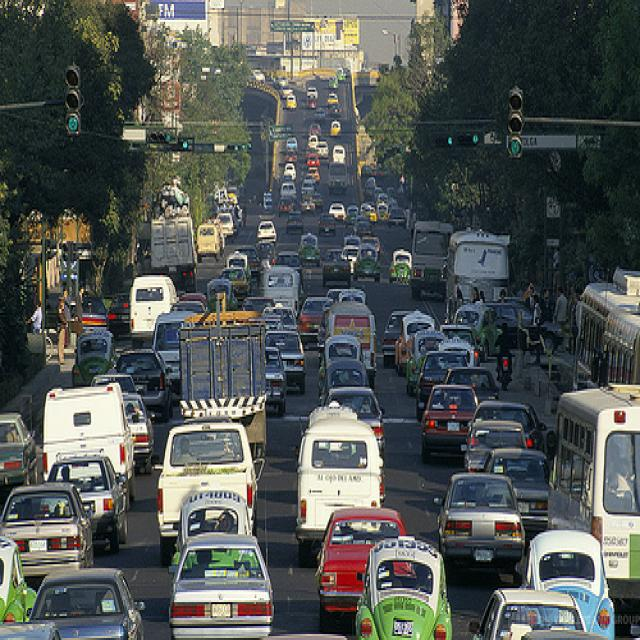motor: (498, 357, 510, 386)
